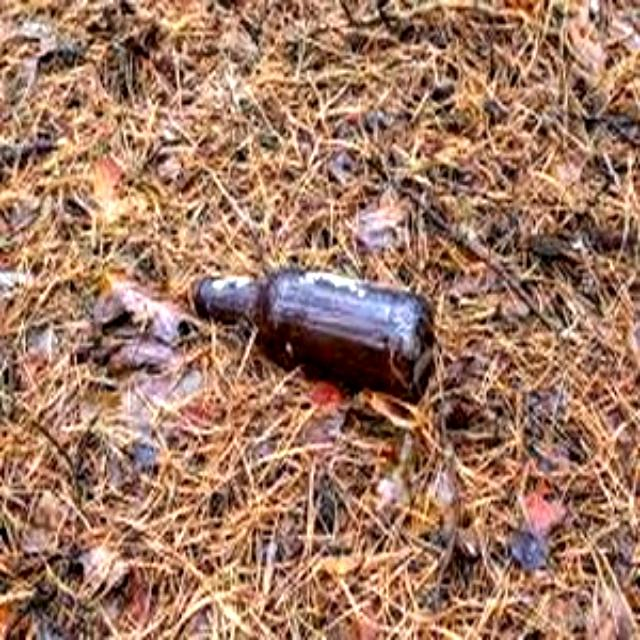Glass: (196, 270, 430, 398)
